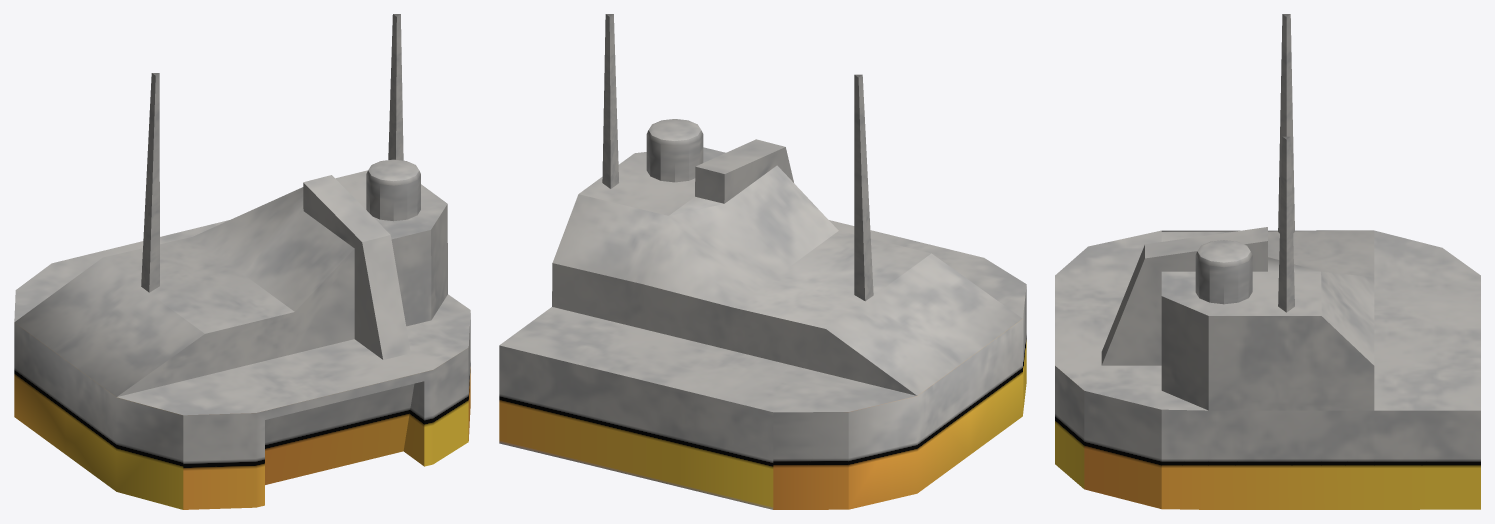
File: Outpost.fbx
3 renders of one model, left to right at view 1: azimuth 30°, elevation 25°; view 2: azimuth 150°, elevation 25°; view 3: azimuth 270°, elevation 25°, orthographic. The views are drawn at different scales.
Parts seen in each view (by area): view 1: Outpost; view 2: Outpost; view 3: Outpost.
Part boxes in pixels (box(x1,y1,x2,y2)): Outpost: box(14, 14, 470, 509); Outpost: box(499, 14, 1026, 509); Outpost: box(1055, 14, 1480, 509).
Bounding box in the file's own units: 32.48 × 30.74 × 32.48.
1 material, 1 textured.
